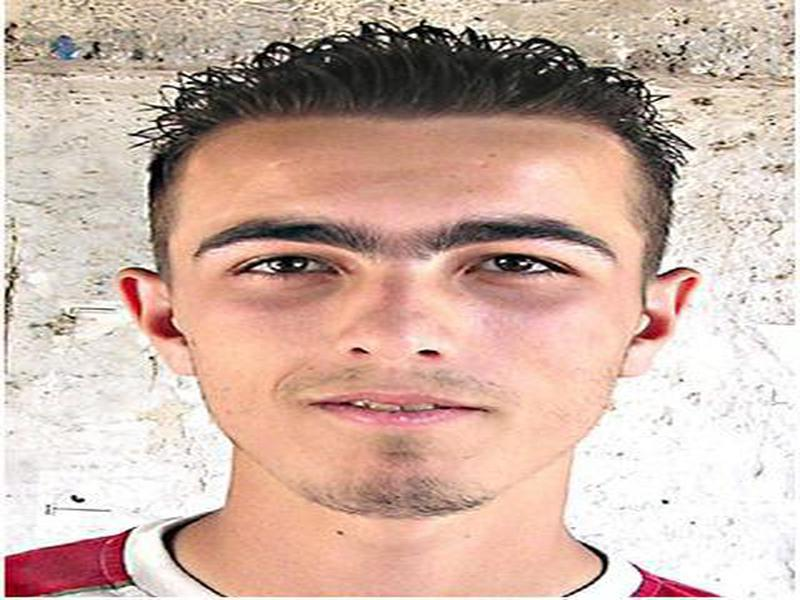without_mask: (191, 125, 623, 525)
